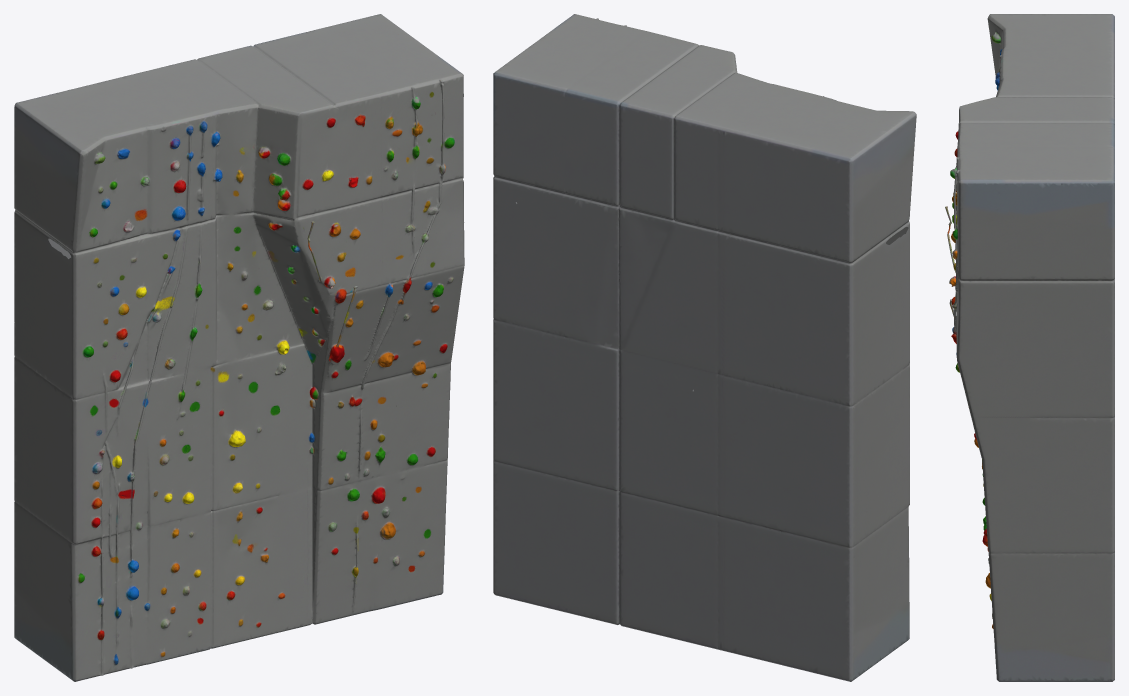
File: laura-climbing.glb
3 views of the same model, side by side, from view 1: azimuth 30°, elevation 25°; view 2: azimuth 150°, elevation 25°; view 3: azimuth 270°, elevation 25° (orthographic). The views are drawn at different scales.
Size of the model in its own units: 1.37 by 1.9 by 0.583.
Materials: 1 (1 with a texture image).
